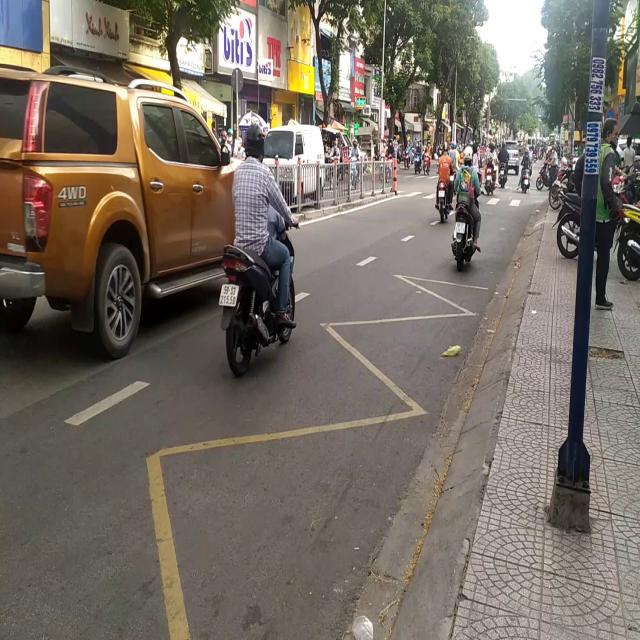bien_trang: (218, 282, 238, 312)
